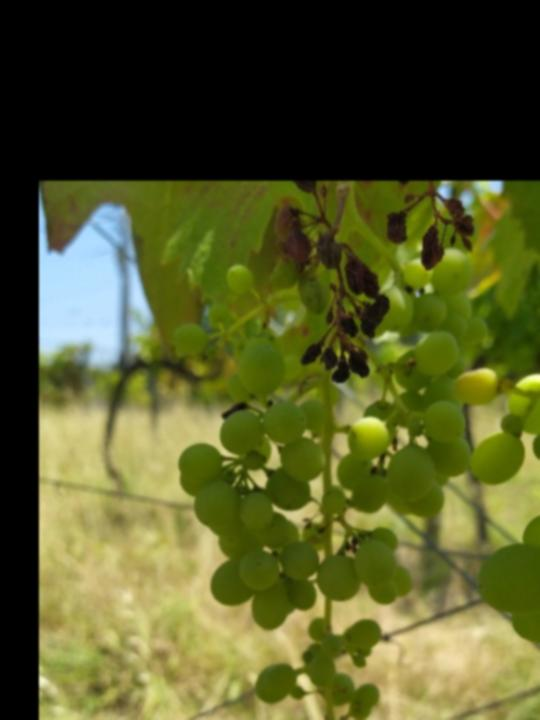grape: (158, 209, 497, 720), (267, 88, 496, 389)
